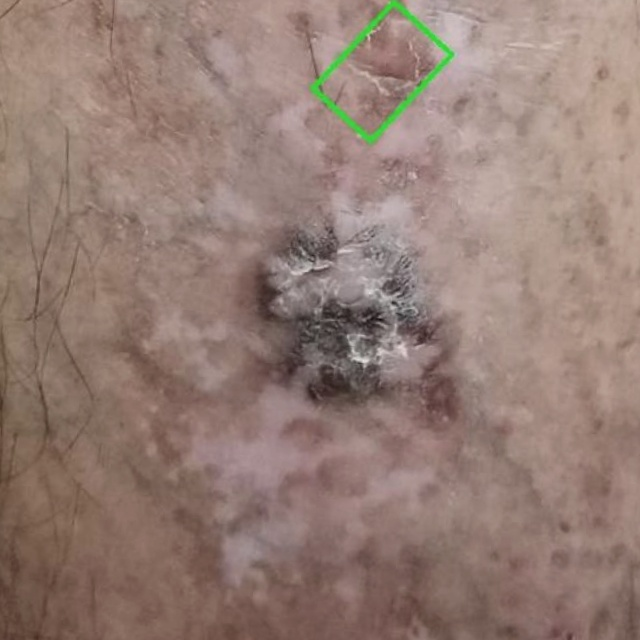Eczema: (312, 2, 450, 142)
